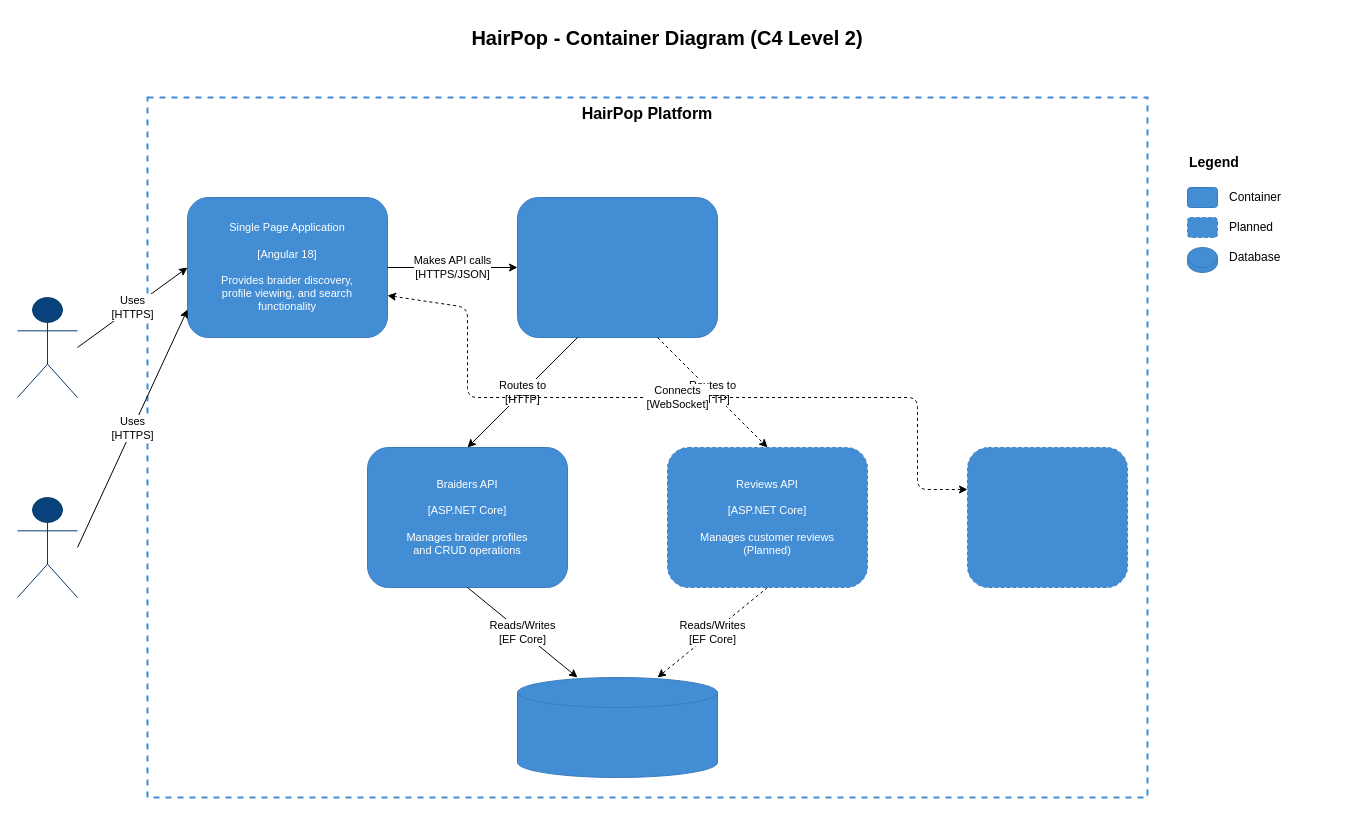
The diagram is 1345 pixels wide and 815 high, and some of its shapes have lost their labels. Each missing label, with the centre of its shape:
"API Gateway [ASP.NET Core] Routes requests, handles CORS, authentication" belongs at (617,267).
"Database [Entity Framework Core] Stores braider profiles, reviews, and user data" belongs at (617,727).
"SignalR Hub [ASP.NET Core] Real-time notifications (Planned)" belongs at (1047,517).
